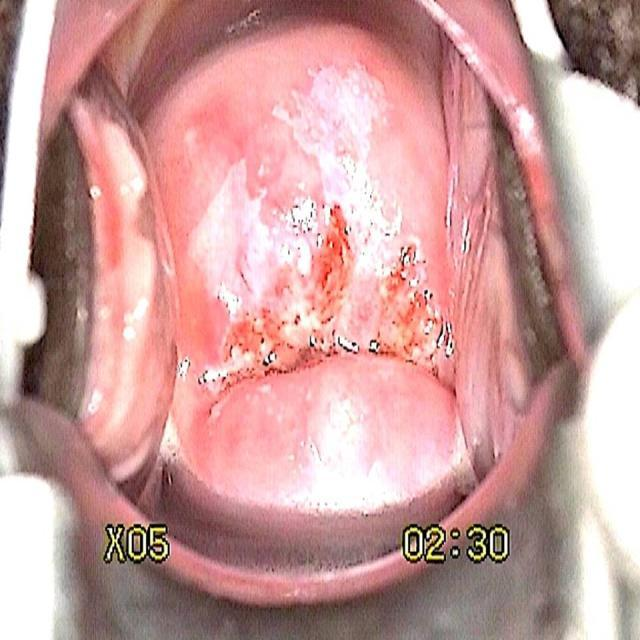cervical_lesion: (60, 41, 504, 533)
